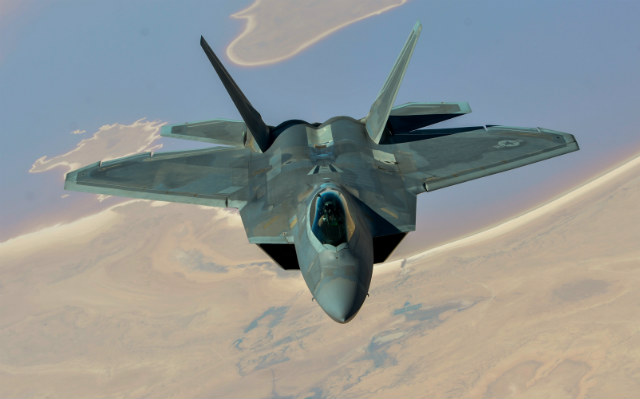F-35 Lightning: (64, 14, 640, 319)
